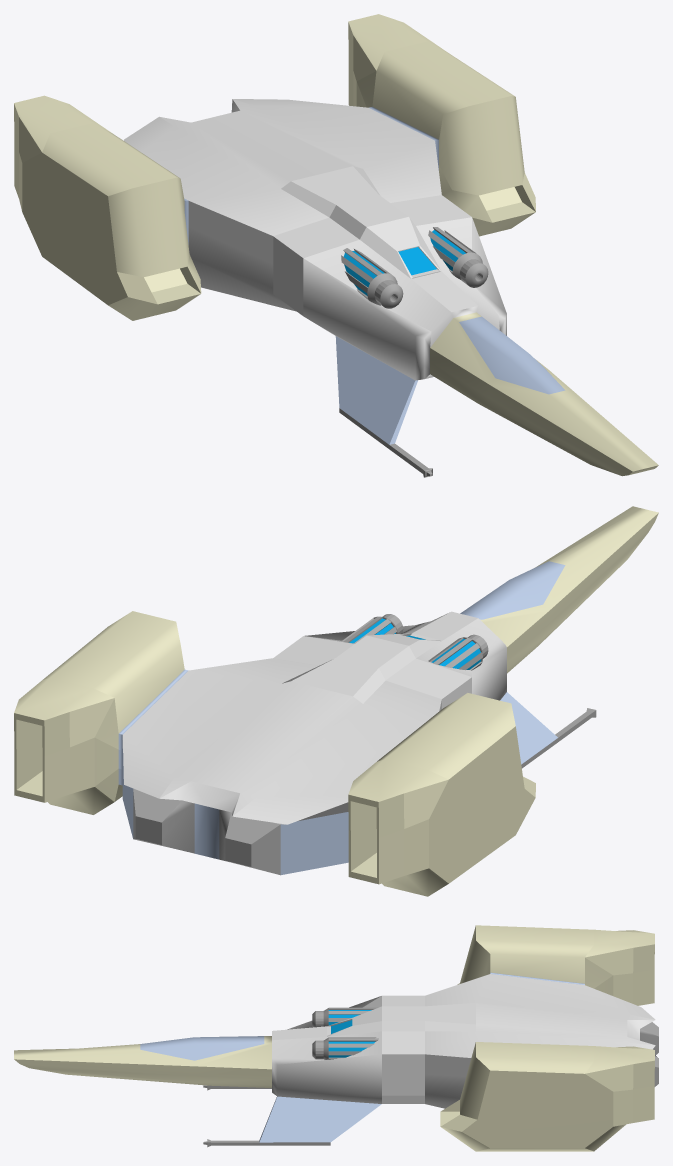
File: playership_01_incolor_05.fbx
The picture shows the model from 3 angles, top to bottom: view 1: azimuth 30°, elevation 25°; view 2: azimuth 150°, elevation 25°; view 3: azimuth 270°, elevation 25°; orthographic projection. The views are drawn at different scales.
Visible parts, largest first — view 1: polySurface1; view 2: polySurface1; view 3: polySurface1.
Boxes of the visible parts, x1=… form: polySurface1: x1=14, y1=14, x2=658, y2=477; polySurface1: x1=14, y1=506, x2=658, y2=896; polySurface1: x1=14, y1=925, x2=658, y2=1151.
Size of the model in its own units: 11.08 by 4.6 by 21.29.
